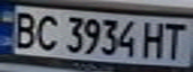3: (60, 14, 84, 54), (100, 16, 121, 56)
4: (118, 17, 142, 59)
9: (78, 15, 103, 56)
B: (9, 8, 39, 50)
C: (30, 11, 63, 52)
H: (139, 19, 169, 60)
T: (160, 20, 193, 60)
